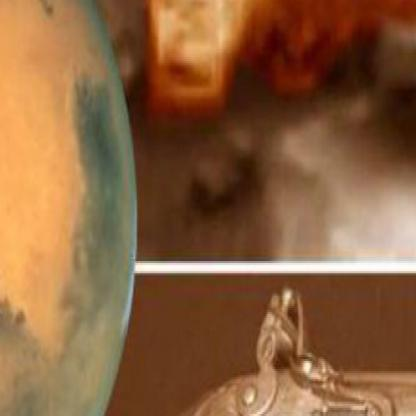gun: (44, 279, 414, 414)
